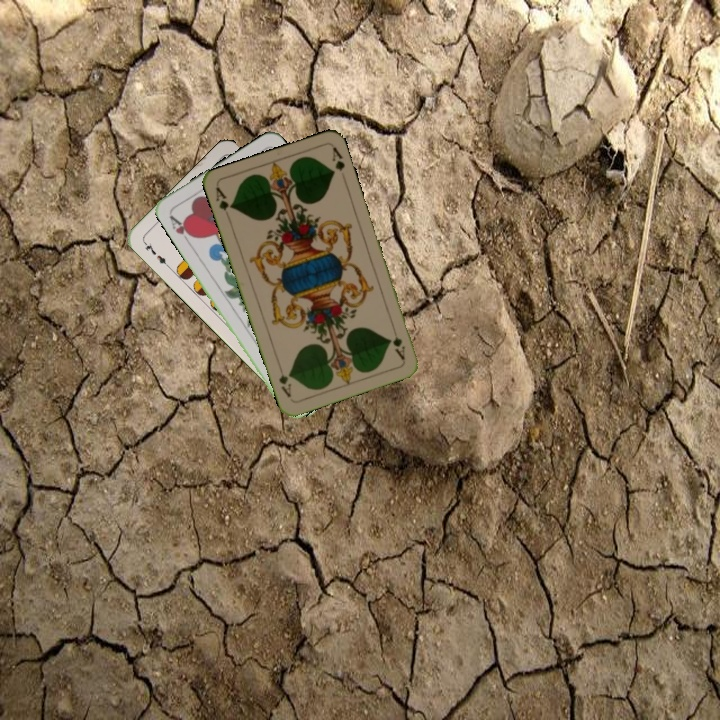E7: (139, 238, 172, 270)
GA: (211, 183, 235, 223), (388, 323, 408, 363)
HA: (165, 211, 197, 246)
